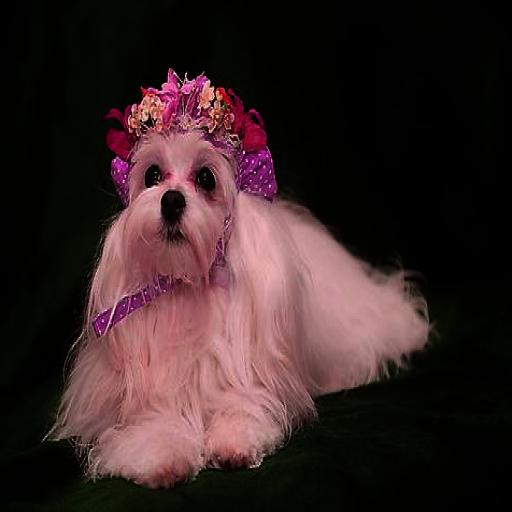dog_face: (109, 96, 238, 267)
